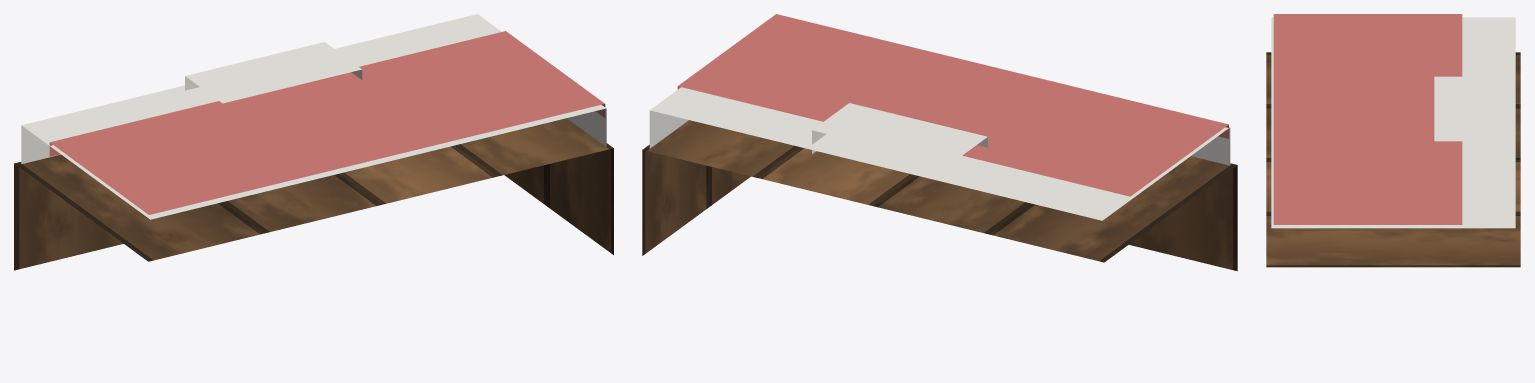
Rendered from prop_bed.glb.
The picture shows the model from 3 angles, left to right: view 1: azimuth 30°, elevation 25°; view 2: azimuth 150°, elevation 25°; view 3: azimuth 270°, elevation 25°; orthographic projection. The views are drawn at different scales.
Parts seen in each view (by area): view 1: prop; view 2: prop; view 3: prop.
Boxes of the visible parts, left/top/right/bottom form: prop: left=14, top=14, right=613, bottom=270; prop: left=642, top=14, right=1237, bottom=271; prop: left=1266, top=14, right=1520, bottom=267.
Bounding box in the file's own units: 2 × 0.66 × 1.
Materials: 4 (1 with a texture image).
